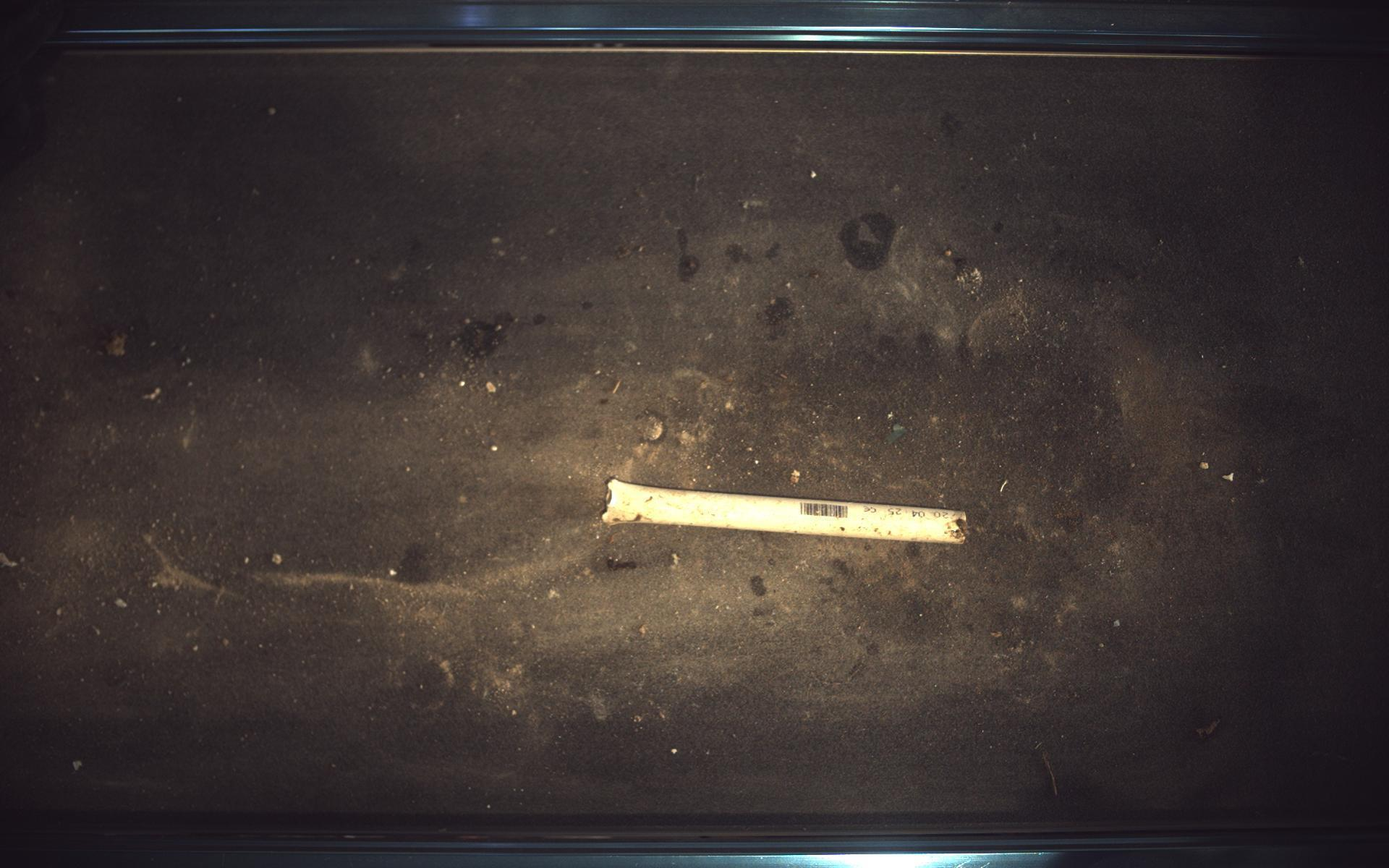pipes: (602, 479, 969, 545)
